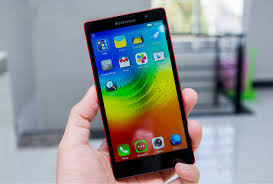lenovo: (82, 5, 196, 184)
